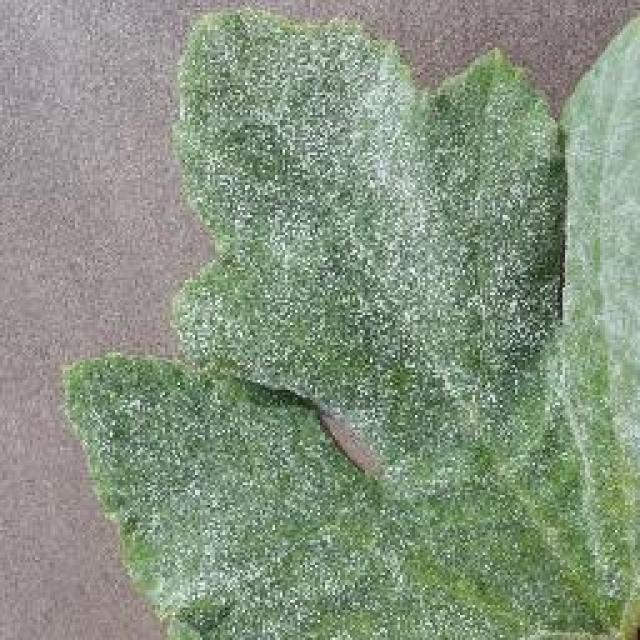Squ_Powdery_mildew: (188, 98, 550, 582)
